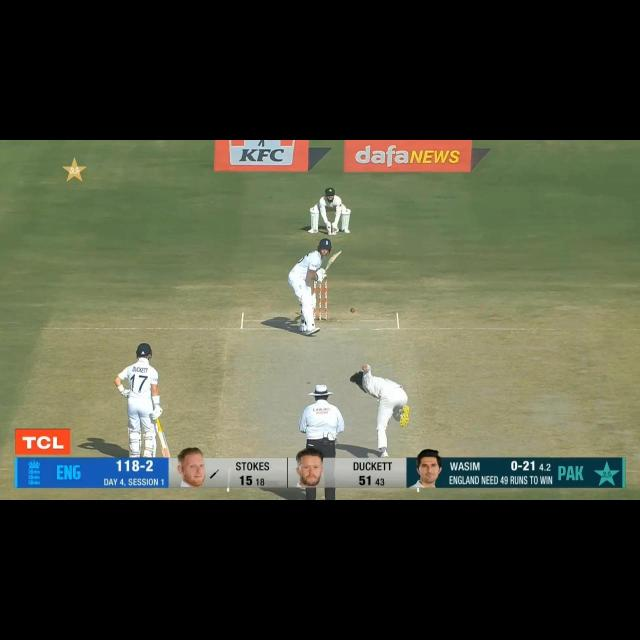bat: (324, 250, 341, 272), (157, 428, 170, 456)
toe: (333, 249, 342, 258), (161, 449, 170, 457)
